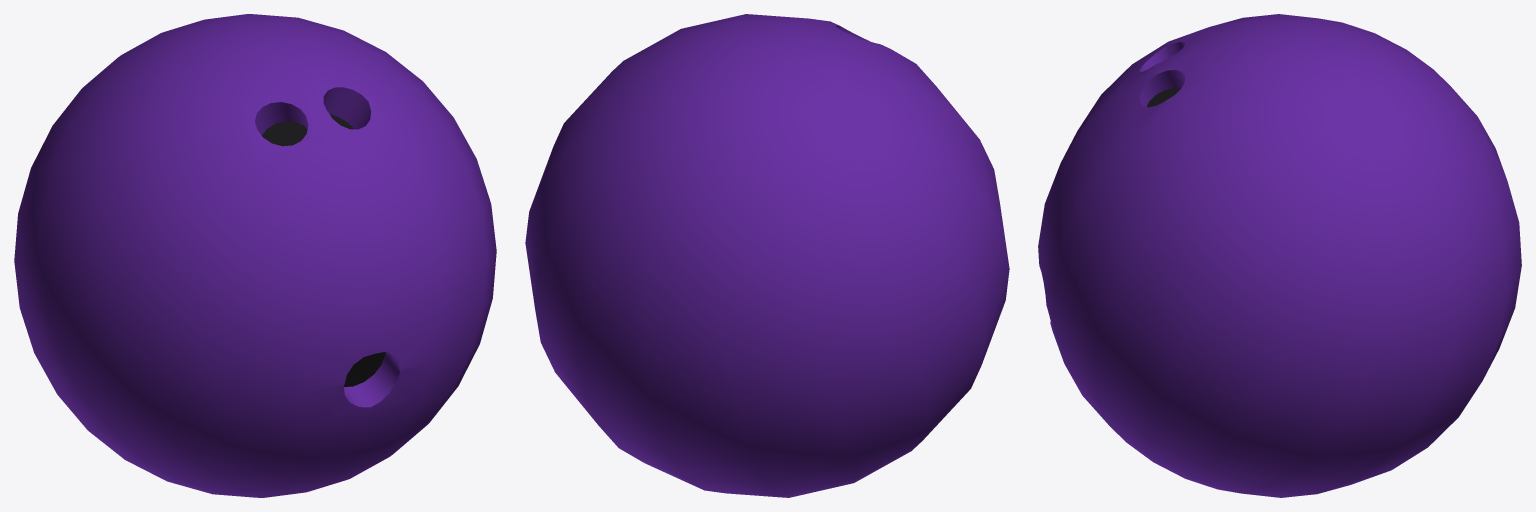
The picture shows the model from 3 angles, left to right: view 1: azimuth 30°, elevation 25°; view 2: azimuth 150°, elevation 25°; view 3: azimuth 270°, elevation 25°; orthographic projection.
Parts seen in each view (by area): view 1: BowlingBall; view 2: BowlingBall; view 3: BowlingBall.
Part boxes in pixels (box(x1,y1,x2,y2)): BowlingBall: box(14, 14, 496, 497); BowlingBall: box(525, 14, 1009, 497); BowlingBall: box(1038, 14, 1521, 497).
Size of what is drawn, in the model's own units: 0.2181 by 0.2179 by 0.2179.
Materials: 1 (1 with a texture image).
